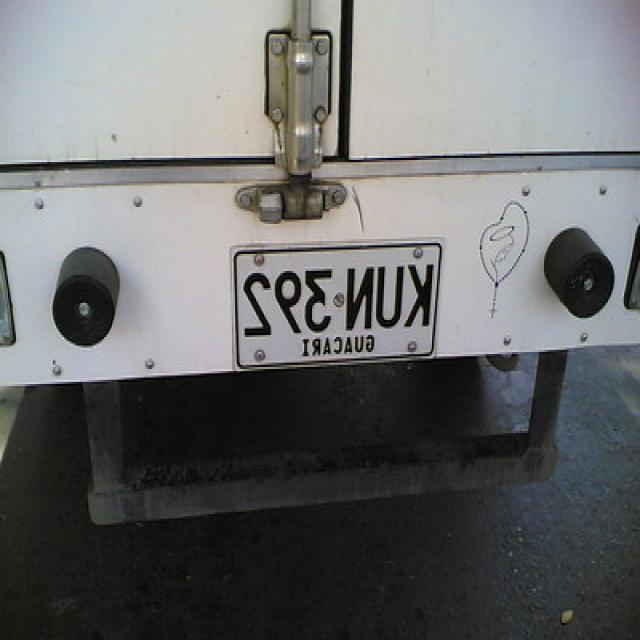placas: (232, 257, 437, 344)
